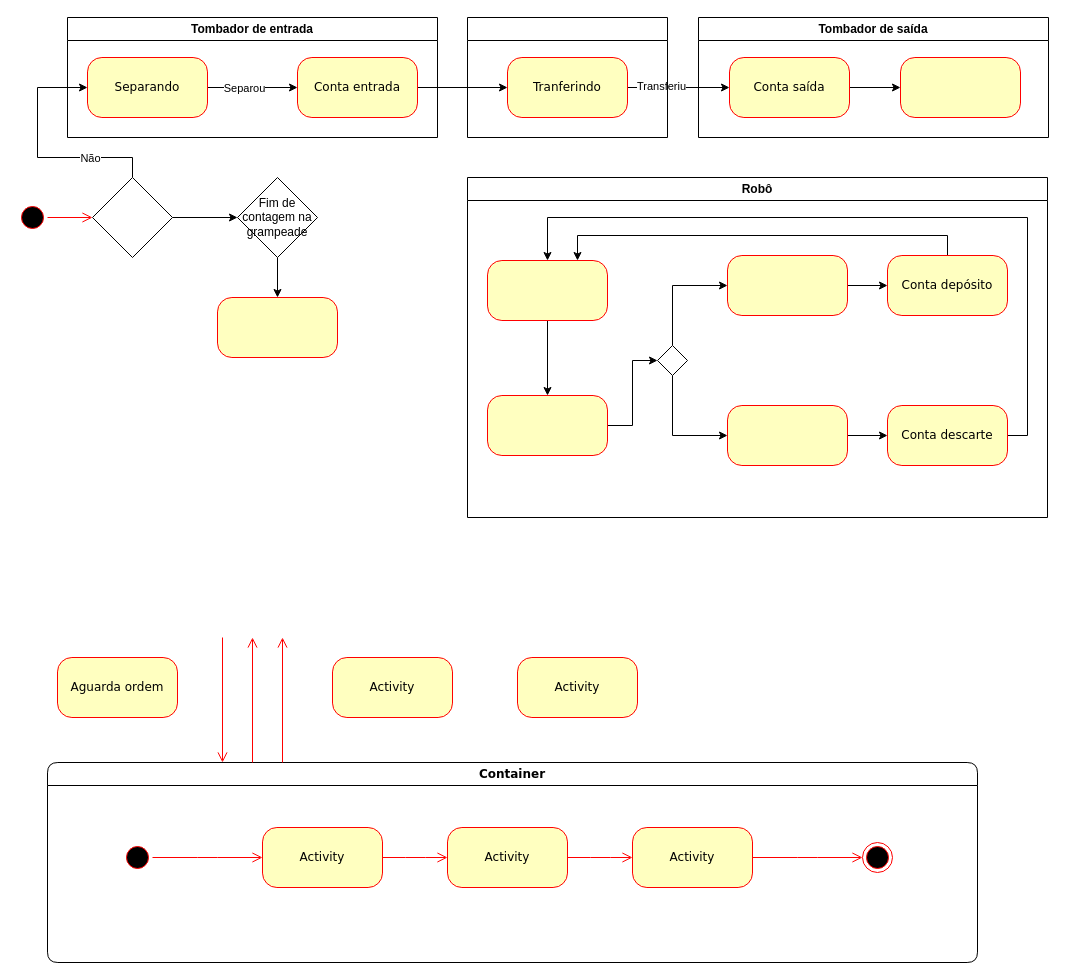
Some shapes in this 1066 by 980 pixel diagram are drawn without their labels. Here are the shapes that lost their labels. From the top down, the centre of each, then its label:
At (567,77): "Mesa".
At (960,87): "Entregando".
At (132,217): "Fim de ordem entrada e saída?".
At (547,290): "Aguardando".
At (787,285): "Depositando".
At (277,327): "Solicita receita".
At (547,425): "Pegando".
At (787,435): "Descartando".
